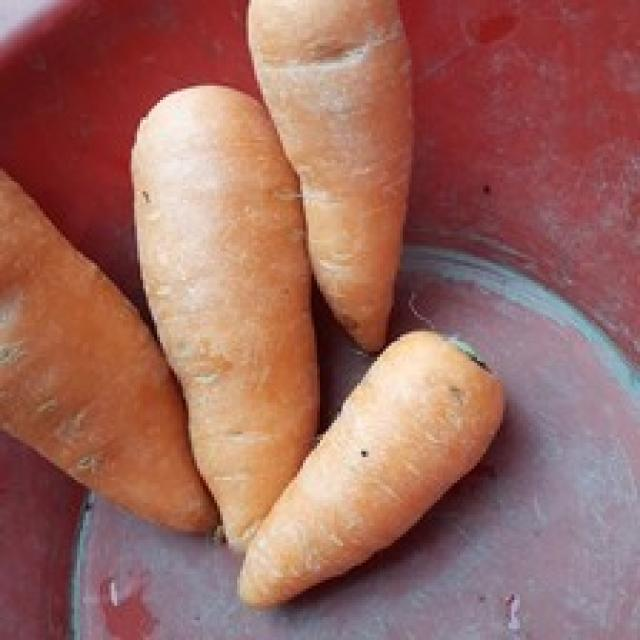Fresh_Carrot: (0, 162, 236, 518), (143, 88, 325, 539), (246, 327, 509, 604), (250, 0, 420, 336)
